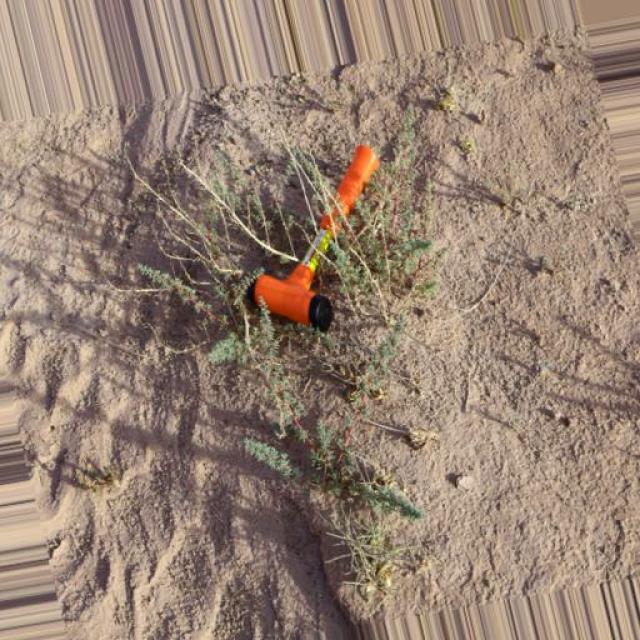mallet: (248, 142, 382, 332)
